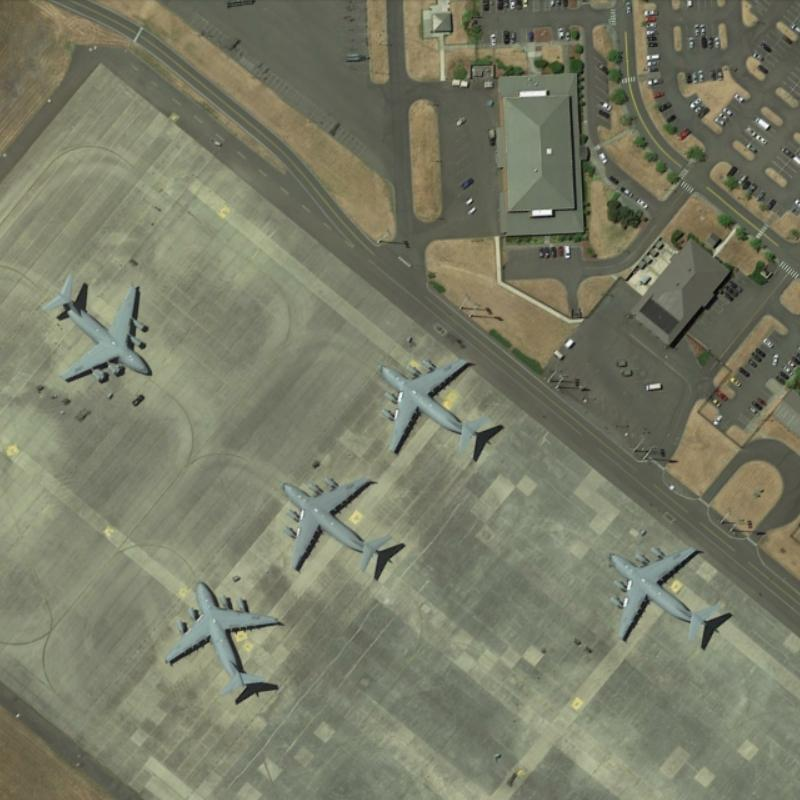A3: (159, 572, 285, 700), (35, 262, 161, 387), (272, 469, 406, 580), (598, 538, 729, 650), (370, 353, 496, 457)
